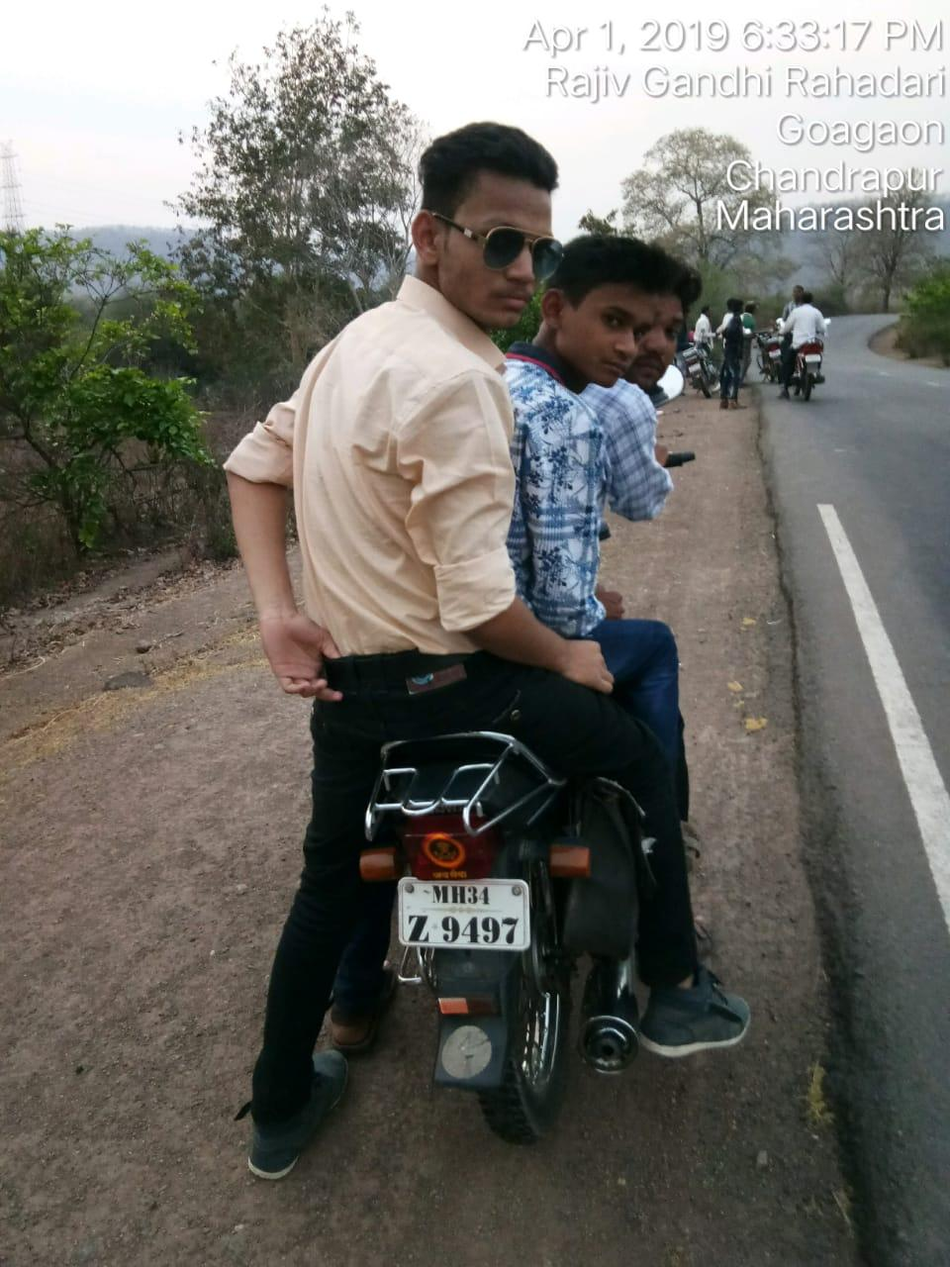plate: (371, 868, 543, 967)
